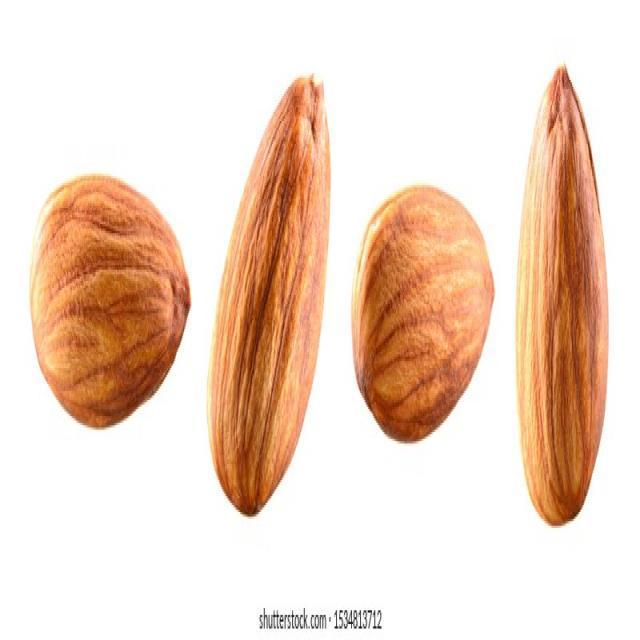almond: (207, 68, 333, 517), (514, 65, 614, 525), (28, 170, 195, 428), (355, 178, 495, 445)
